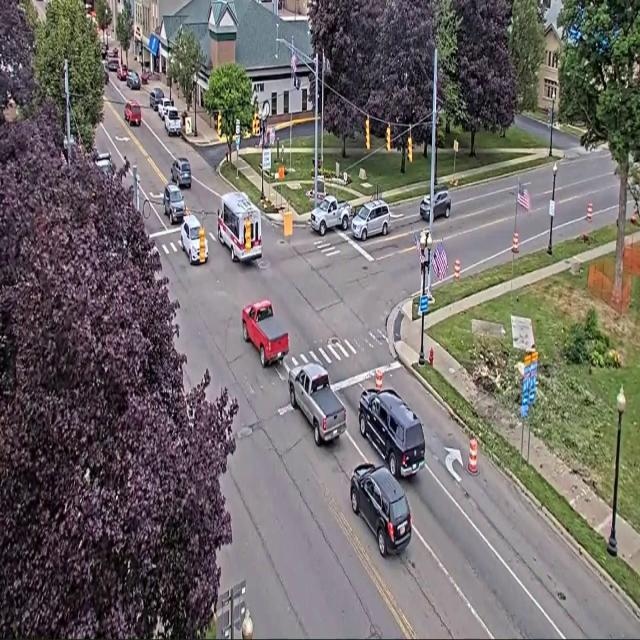car: (359, 390, 425, 477), (350, 464, 412, 556), (351, 200, 390, 240), (181, 216, 201, 264), (163, 184, 185, 223), (171, 158, 191, 188), (433, 190, 451, 219), (164, 107, 181, 135), (125, 101, 141, 126), (96, 152, 112, 175), (157, 97, 173, 119), (149, 88, 164, 111), (127, 70, 141, 90), (117, 64, 128, 81), (107, 58, 119, 71), (103, 64, 109, 84), (101, 43, 108, 59), (108, 48, 119, 58)
traffic signal: (199, 226, 205, 263), (245, 220, 251, 251), (252, 112, 259, 136), (386, 125, 391, 151), (366, 118, 370, 150), (408, 135, 412, 162), (217, 112, 221, 137)
truck: (288, 363, 346, 446), (242, 300, 288, 367), (310, 195, 351, 236)
